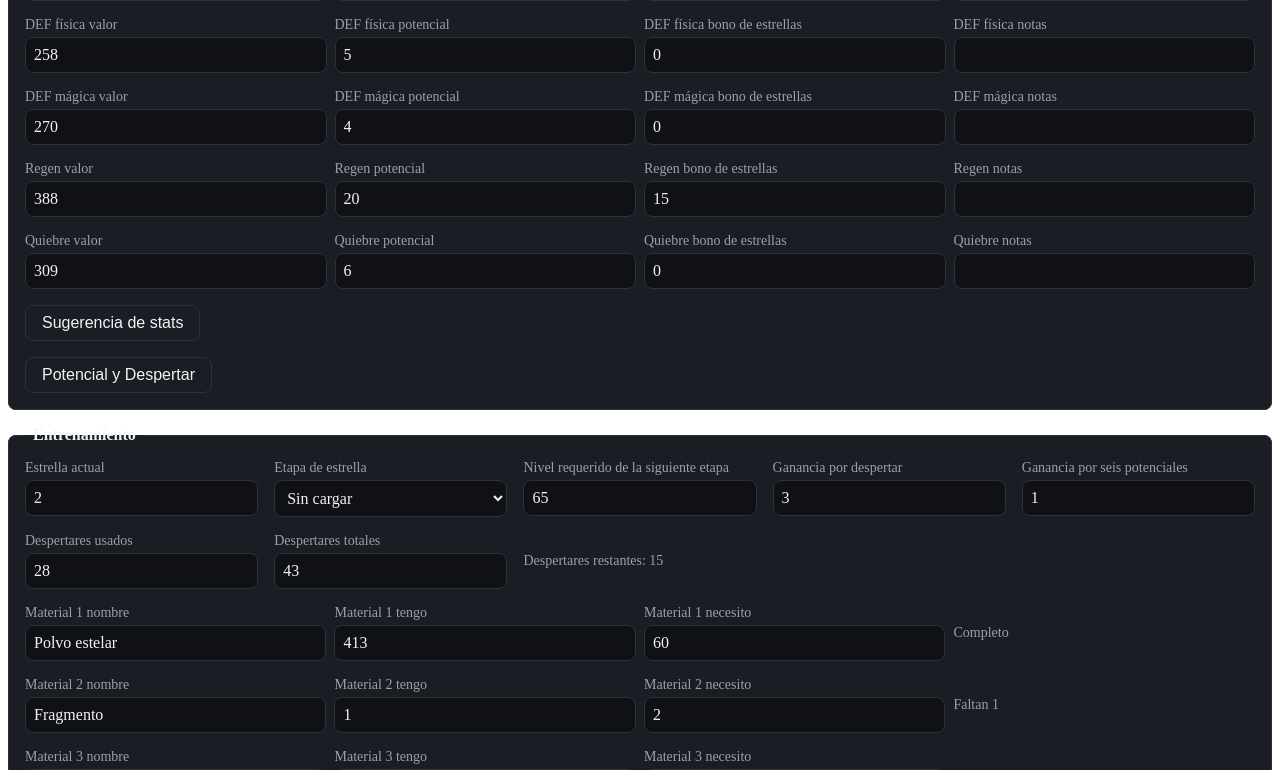
it: entrada invalida › con la etapa sin cargar el boton queda deshabilitado con el motivo
(page scrolled)
What coordinates should you click on to do the following:
click the button "Potencial y Despertar"
I would click on:
 (118, 375)
Its box is [25, 357, 212, 393].
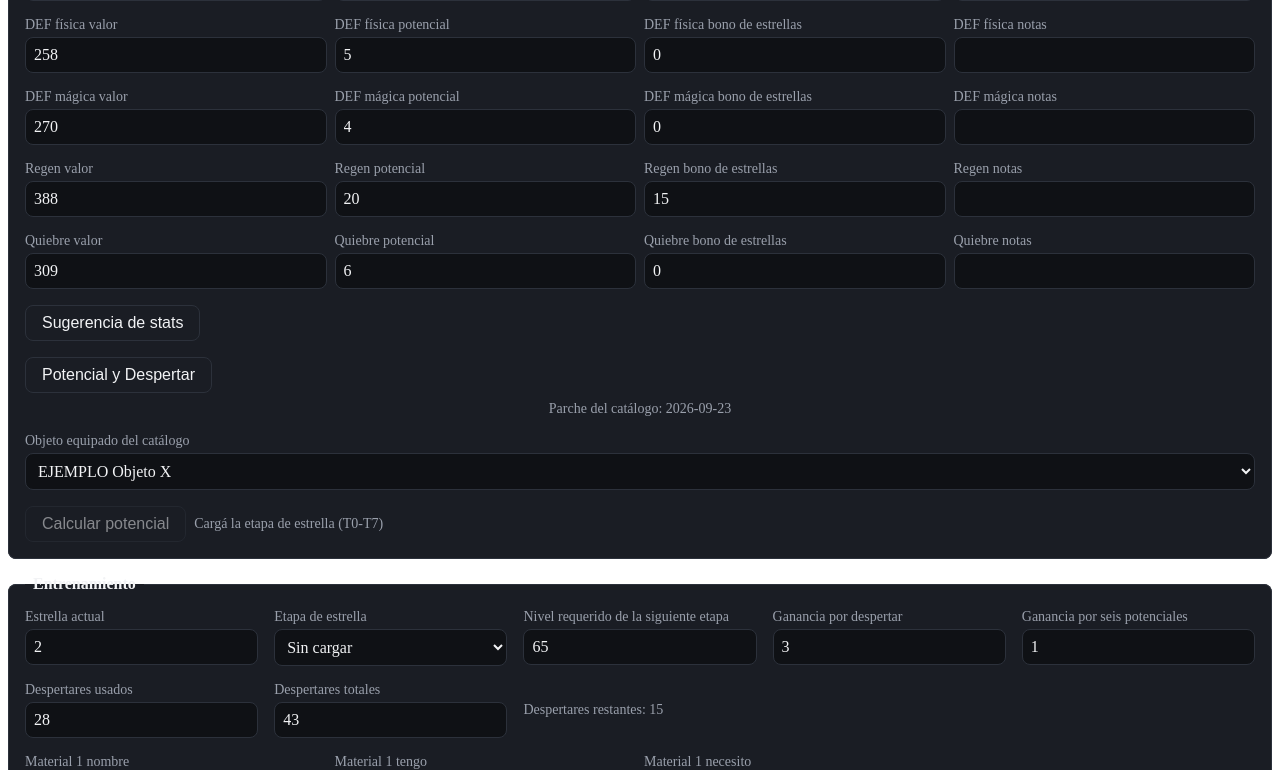
Check: the button "Calcular potencial" is disabled, box [25, 506, 186, 542]
Check: the text "Cargá la etapa de estrella (T0-T7)" is shown, box [194, 516, 383, 532]
